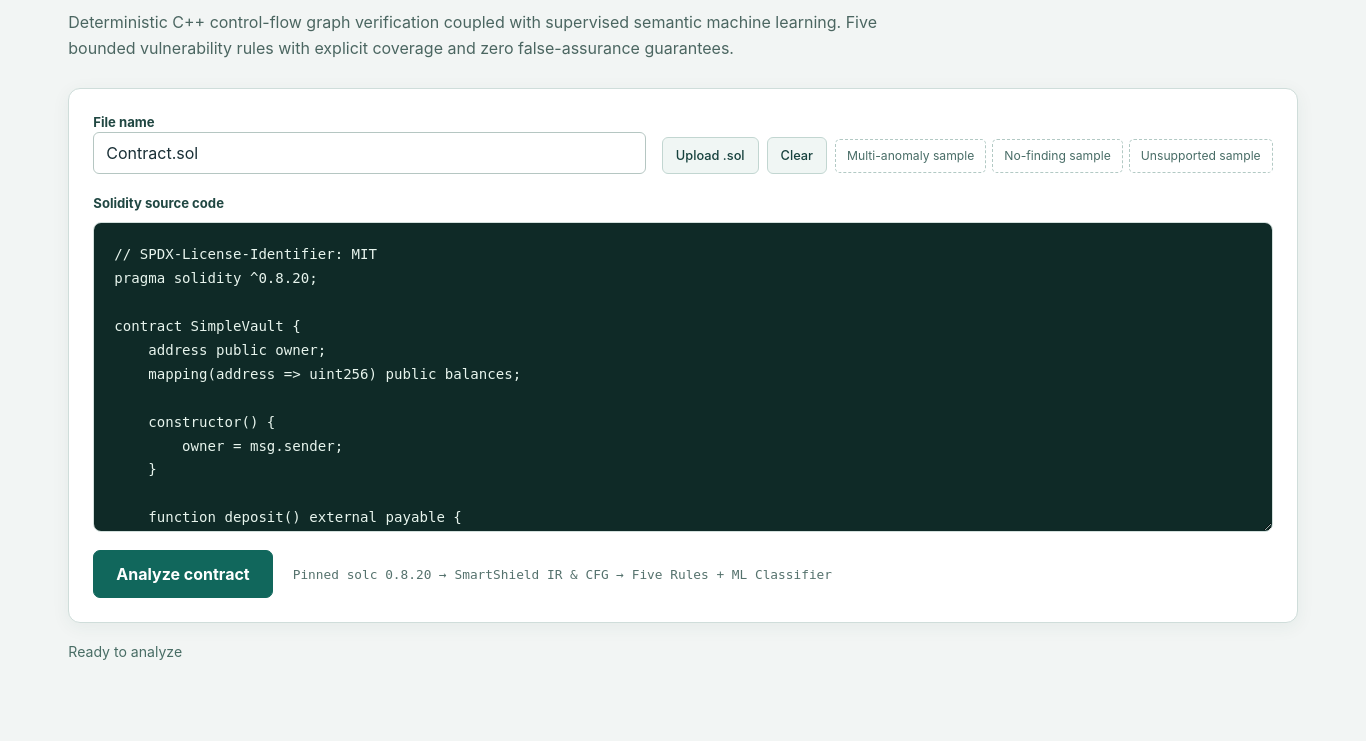
Test: generates verified candidate remediation and displays unified diff
(page scrolled)
Click the button "Analyze contract" at [183, 574], box [93,550,273,598]
(page scrolled)
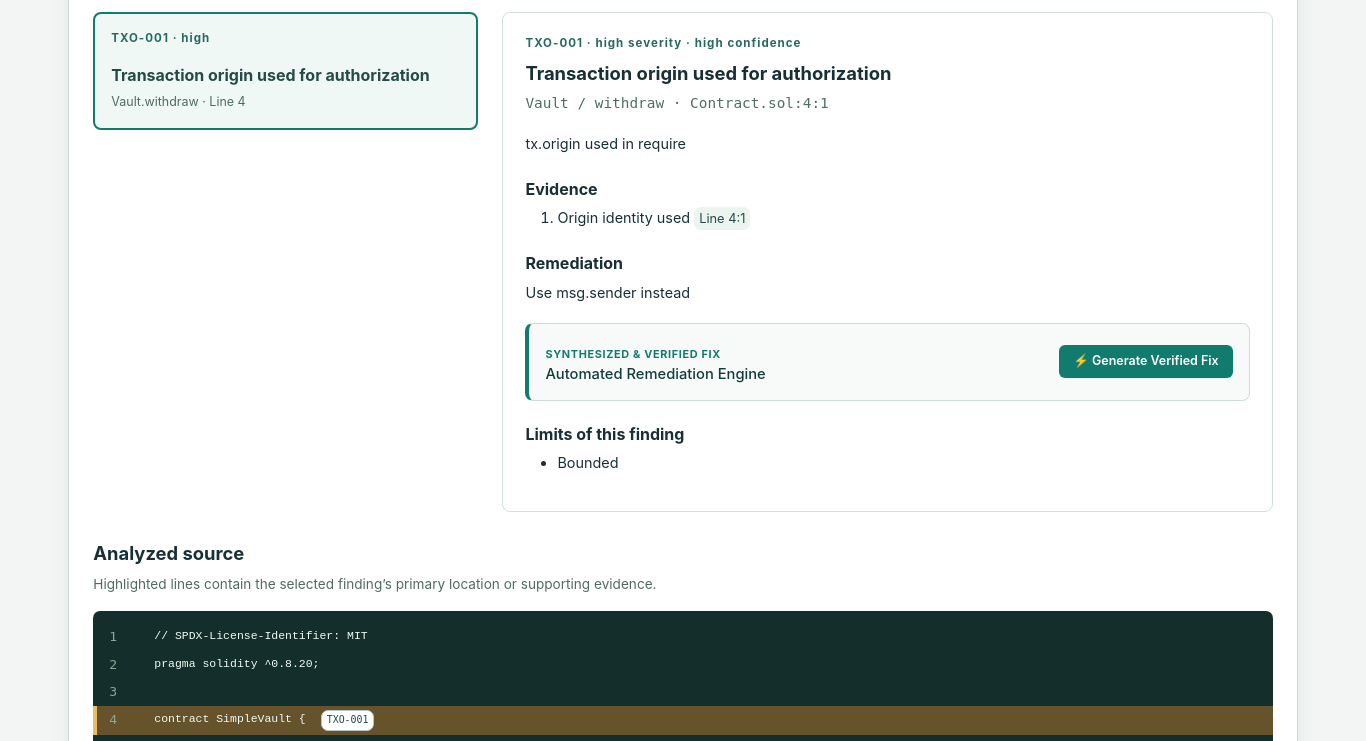
Now the button "⚡ Generate Verified Fix" is shown
Click the button "⚡ Generate Verified Fix" at [1146, 362], box [1059,346,1233,378]
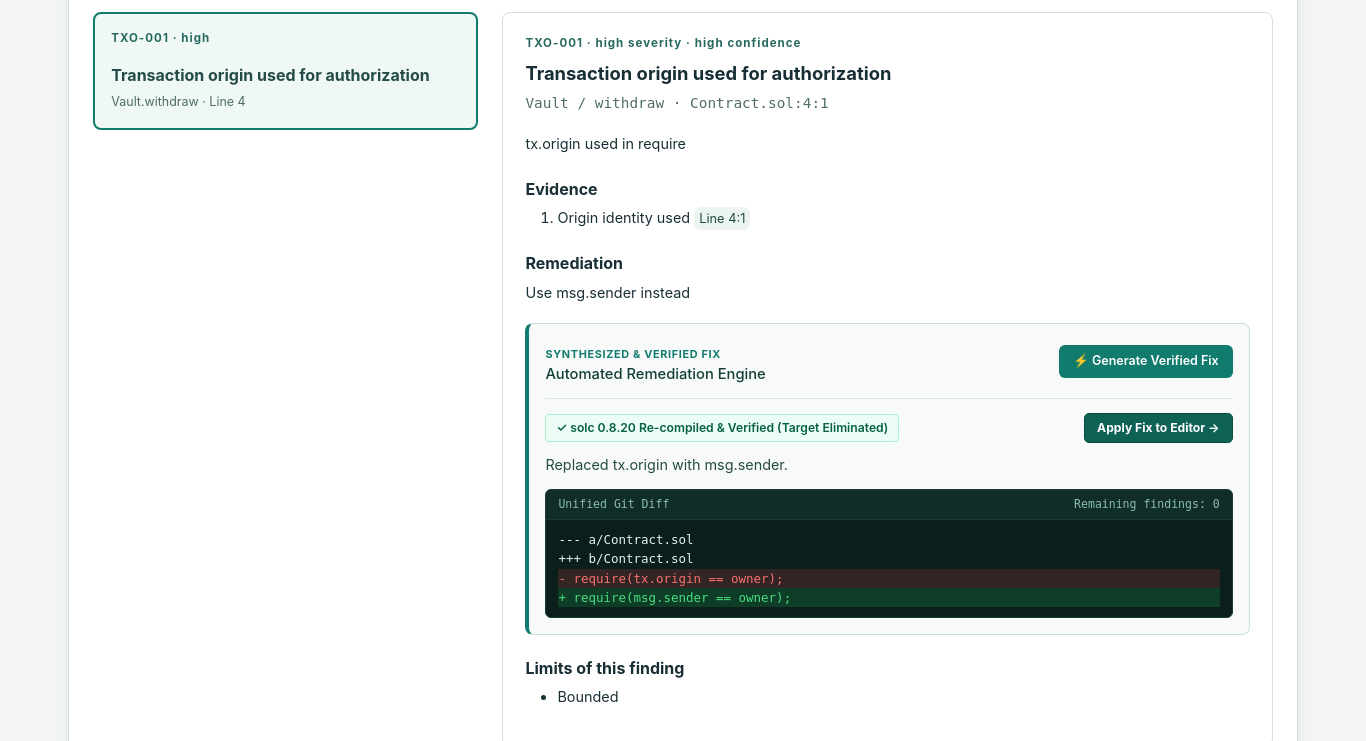
Now the text "✓ solc 0.8.20 Re-compiled & Verified (Target Eliminated)" is shown, box [545,414,899,442]
Now the text "Unified Git Diff" is shown, box [558,496,669,513]
Now the button "Apply Fix to Editor →" is shown, box [1084,413,1233,443]
